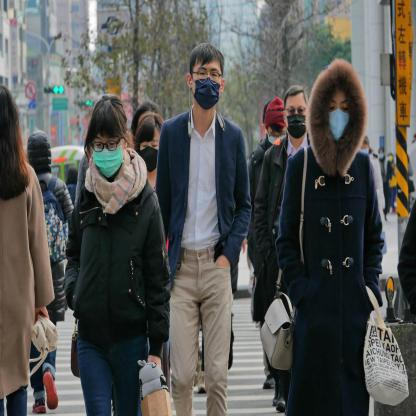Wearing_Mask: (191, 64, 221, 110), (92, 134, 121, 179), (326, 97, 351, 142), (286, 101, 307, 140), (138, 138, 160, 174), (266, 126, 287, 147), (379, 152, 384, 159)
